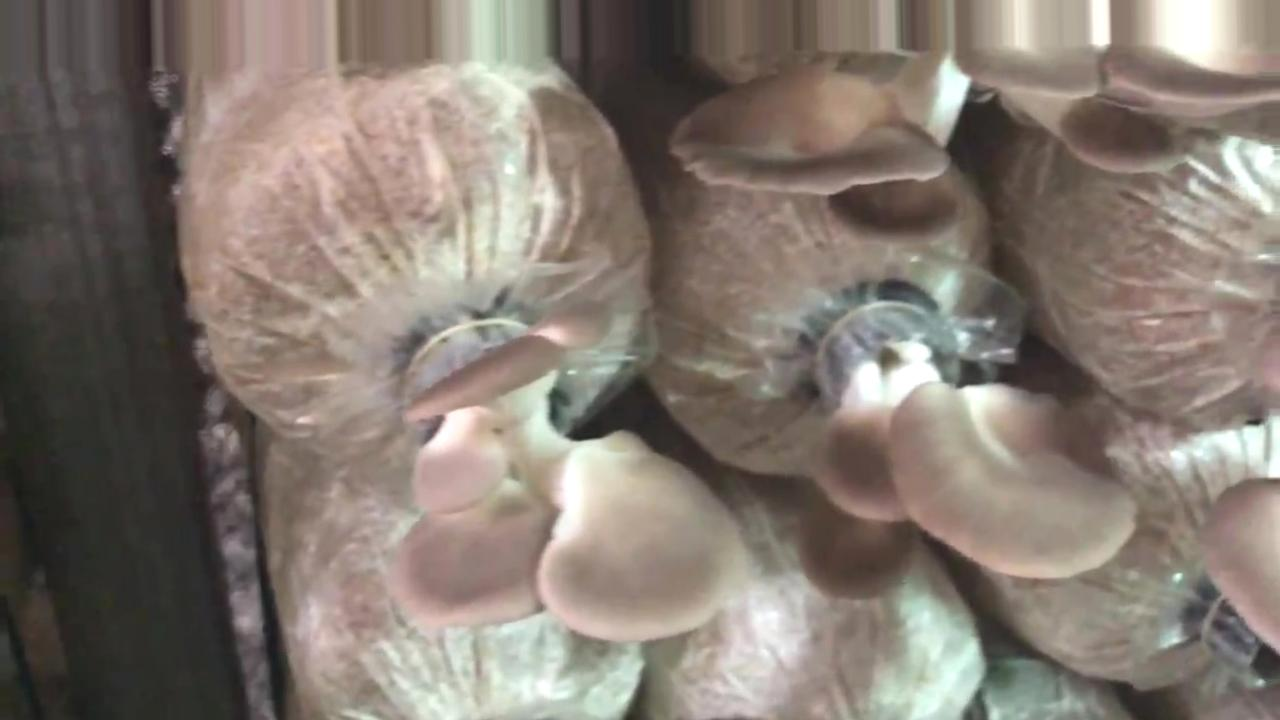nam: (396, 327, 734, 638), (796, 296, 1135, 603), (668, 93, 964, 246)
